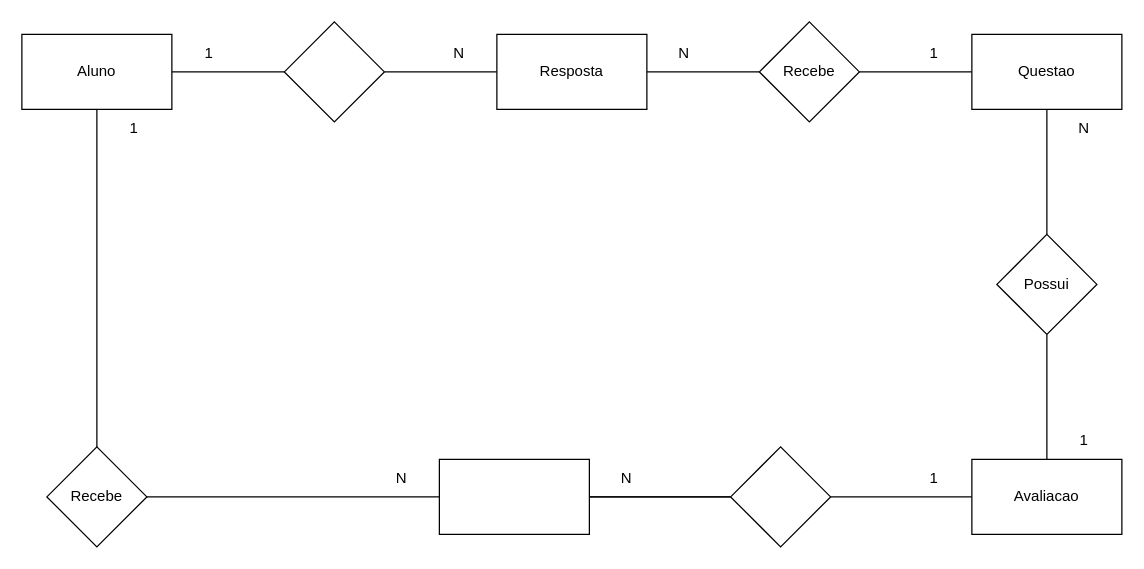
This 1144x569 diagram has some shape labels left out. Here are the shapes that lost their labels. From the top down, the centre of each, then its label:
At [333,71]: "Envia".
At [513,496]: "Nota".
At [780,496]: "Gera".
